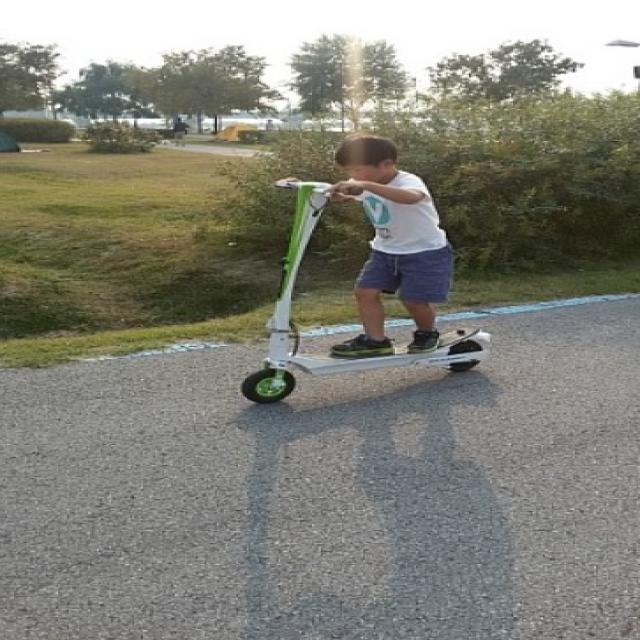non-helmet: (199, 108, 517, 414)
